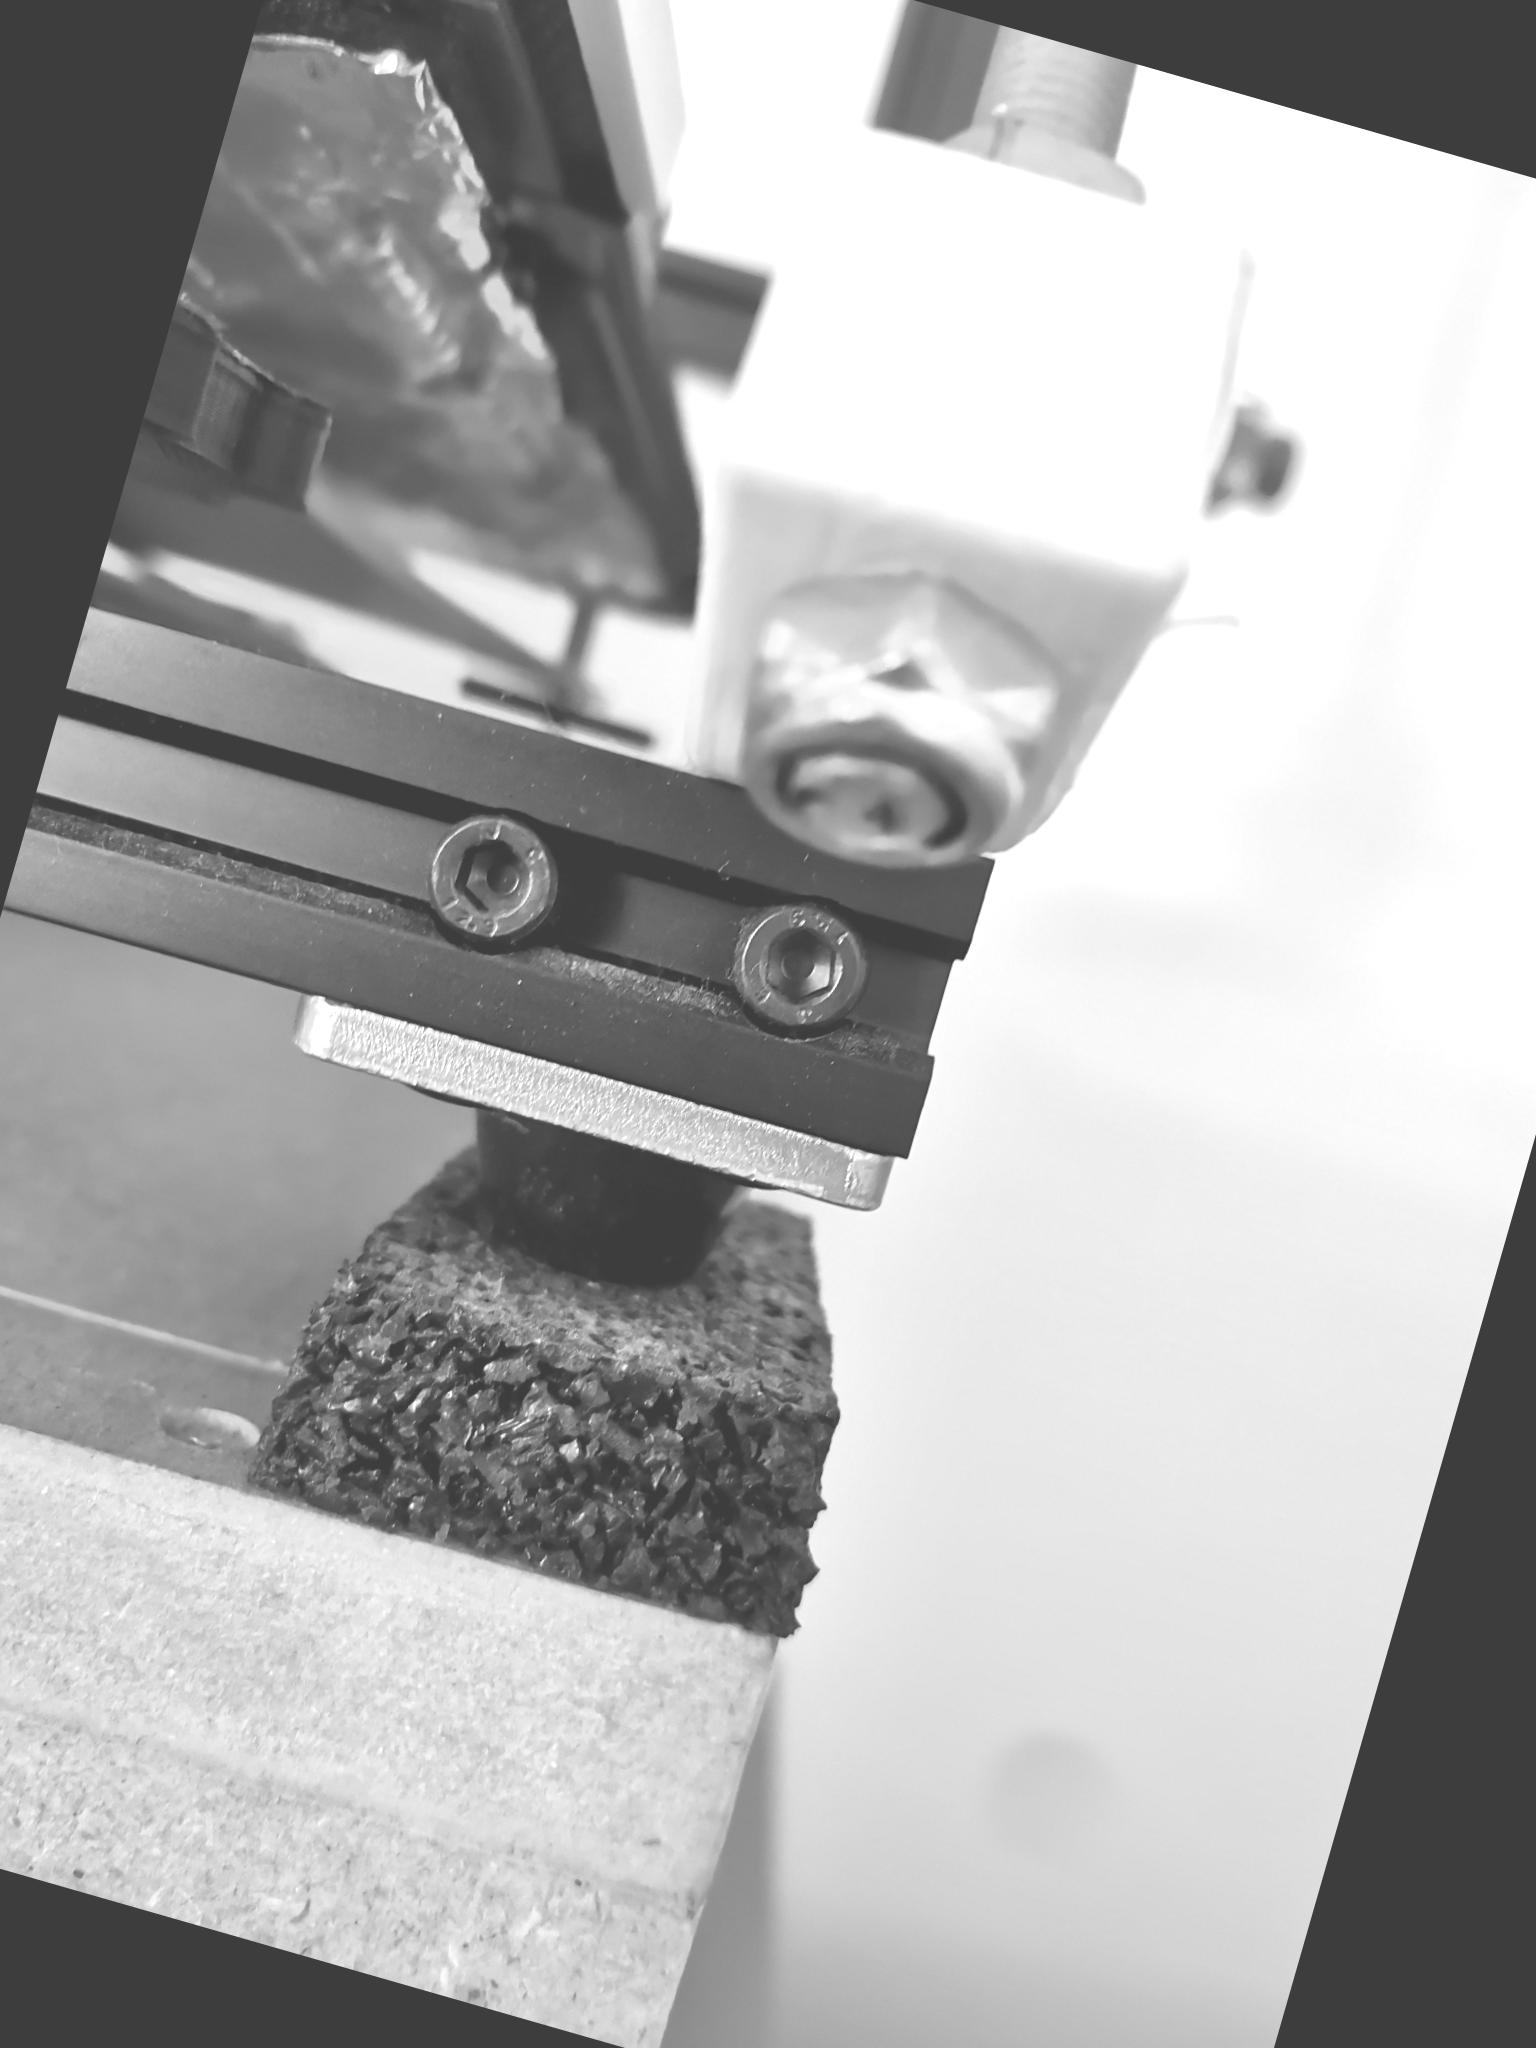screw: (403, 798, 584, 972), (712, 880, 889, 1056)
